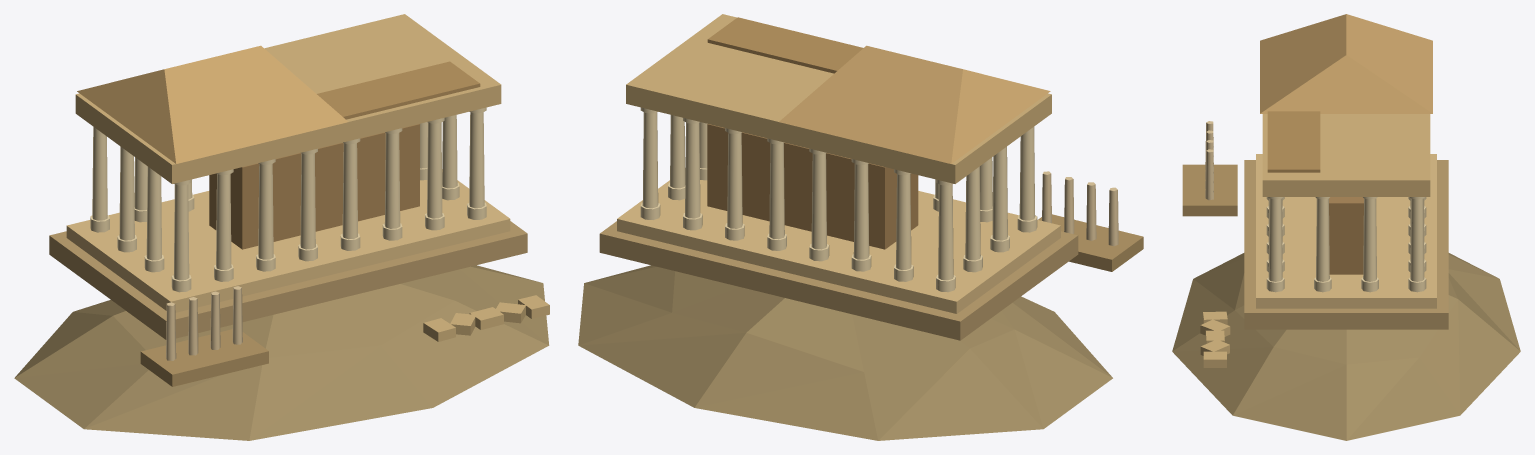
File: acropolis.glb
The picture shows the model from 3 angles, left to right: view 1: azimuth 30°, elevation 25°; view 2: azimuth 150°, elevation 25°; view 3: azimuth 270°, elevation 25°; orthographic projection. The views are drawn at different scales.
Parts seen in each view (by area): view 1: base_9C9A7F, body_DED1AF, body_CDBD99, base_D8C9AA, roof_CAB996, base_C2B493, body_B5A486, roof_C4B08C, base_BEAD8F, ruins_CDBF9C, body_D6C8A6; view 2: base_9C9A7F, body_DED1AF, base_D8C9AA, body_CDBD99, roof_CAB996, base_C2B493, body_B5A486, roof_C4B08C, base_BEAD8F, body_D6C8A6; view 3: base_9C9A7F, roof_CAB996, base_D8C9AA, body_CDBD99, base_C2B493, body_DED1AF, roof_C4B08C, body_B5A486, base_BEAD8F, ruins_CDBF9C, body_D6C8A6.
Boxes of the visible parts, x1,y1,x2,y2 form: base_9C9A7F: (14,265,549,440); body_DED1AF: (90,107,486,292); body_CDBD99: (75,14,501,183); base_D8C9AA: (66,169,510,312); roof_CAB996: (77,45,347,163); base_C2B493: (49,221,527,339); body_B5A486: (209,124,419,249); roof_C4B08C: (317,61,480,119); base_BEAD8F: (140,329,268,386); ruins_CDBF9C: (423,295,549,341); body_D6C8A6: (166,286,242,360); base_9C9A7F: (578,265,1112,440); body_DED1AF: (640,107,1037,292); base_D8C9AA: (617,180,1060,313); body_CDBD99: (626,14,1051,183); roof_CAB996: (779,45,1050,163); base_C2B493: (599,221,1078,340); body_B5A486: (707,124,918,249); roof_C4B08C: (707,17,863,73); base_BEAD8F: (1038,214,1143,271); body_D6C8A6: (1042,171,1118,246); base_9C9A7F: (1172,253,1520,440); roof_CAB996: (1260,14,1432,113); base_D8C9AA: (1256,154,1436,308); body_CDBD99: (1262,114,1430,196); base_C2B493: (1244,160,1448,329); body_DED1AF: (1266,197,1426,292); roof_C4B08C: (1267,111,1320,172); body_B5A486: (1329,197,1363,274); base_BEAD8F: (1182,164,1237,216); ruins_CDBF9C: (1200,311,1230,367); body_D6C8A6: (1205,121,1213,200).
Size of the model in its own units: 1 by 0.5922 by 0.703.
